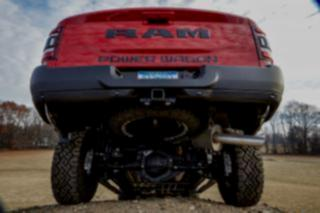ram: (101, 24, 214, 42)
